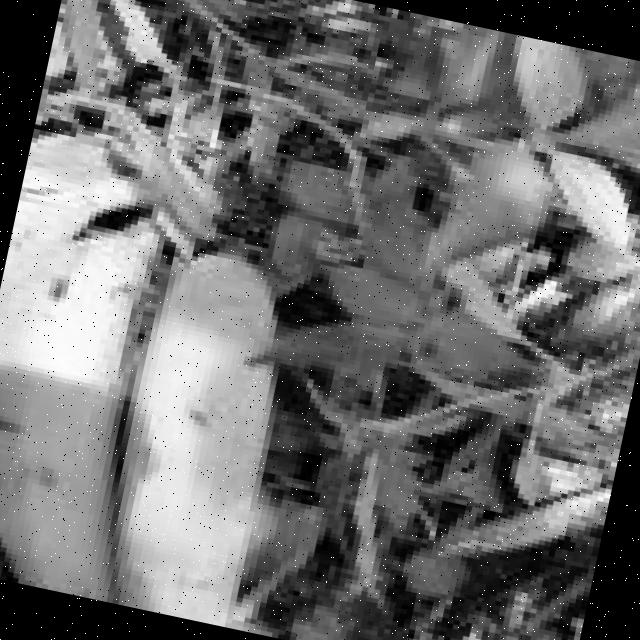Good_Banana-2-3 days: (0, 166, 271, 625)
